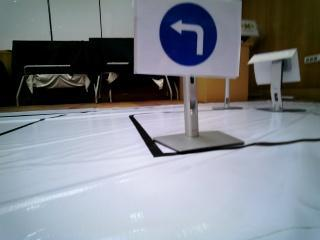left: (142, 0, 235, 73)
